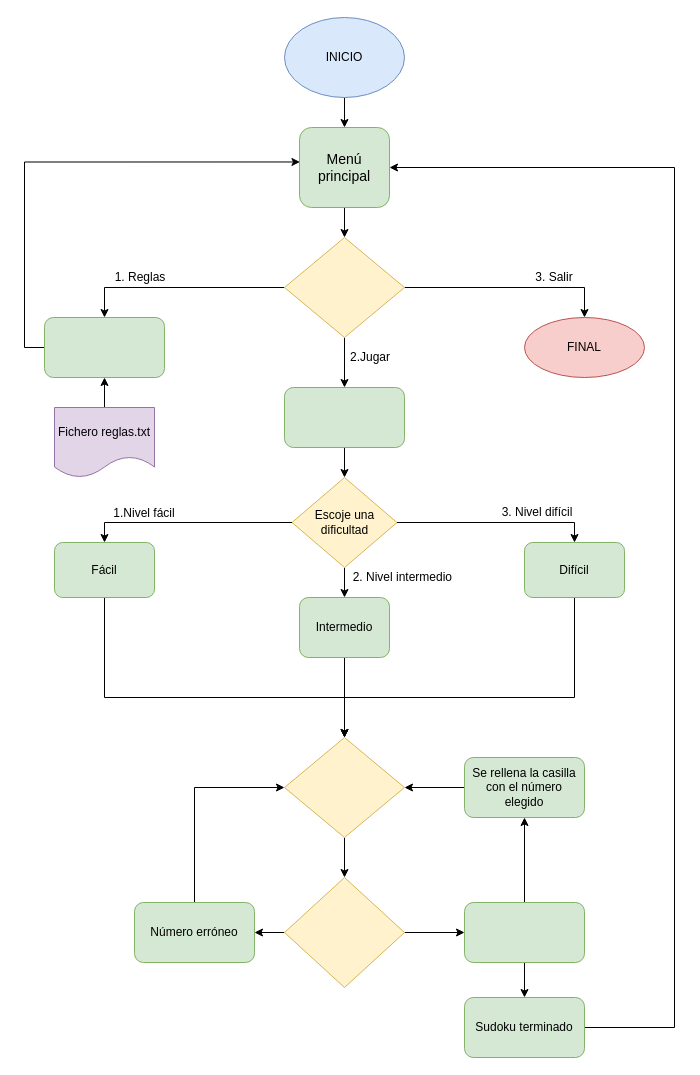
Image size: 700x1075. Some labels were removed from this diagram. Here are the shapes that lost their labels. From the top down, the centre of each, then its label:
At (344,287): "¿QUÉ DESEA HACER?".
At (104,347): "Reglas del Sudoku".
At (344,417): "JUGAR".
At (344,787): "Elige la fila y la columna".
At (344,932): "Elige un número del 1 al 9".
At (524,932): "Número correcto".
